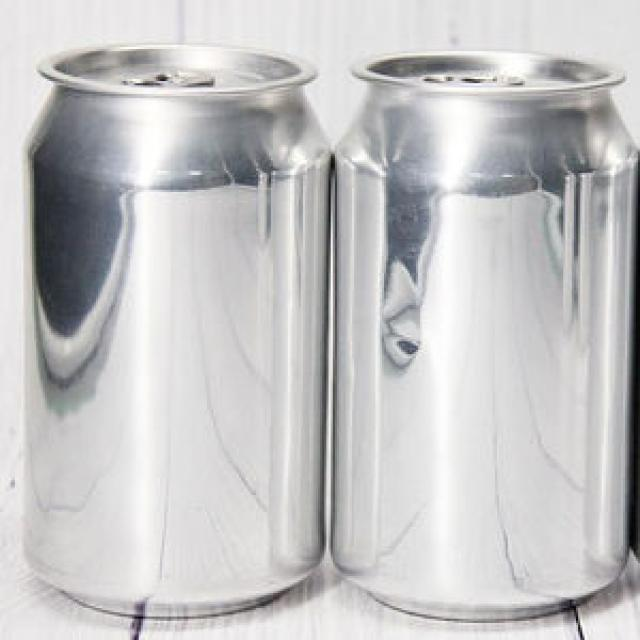can: (20, 41, 332, 620), (331, 37, 640, 620)
